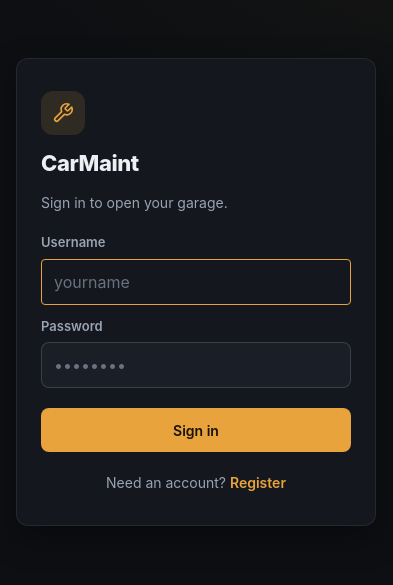
Test case: LoginView auth screen › toggles to register mode and back
The width and height of the screenshot is (393, 585).
Click the button "Register" at (258, 482), box top-left (230, 472), bottom-right (286, 493)
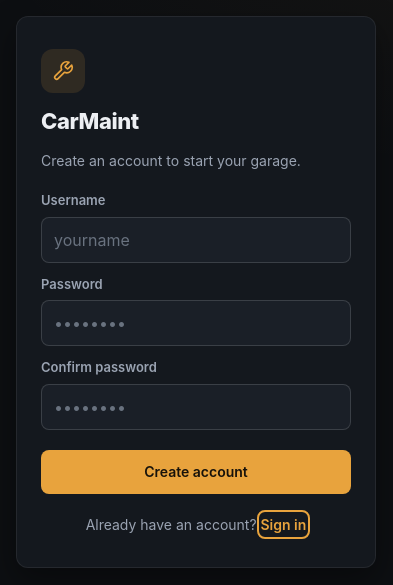
expect the button "Create account" is shown: met, box top-left (41, 450), bottom-right (351, 494)
expect the password field labelled "Confirm password" is shown: met, box top-left (41, 384), bottom-right (351, 430)
Click the button "Sign in" at (283, 524), box top-left (260, 514), bottom-right (306, 535)
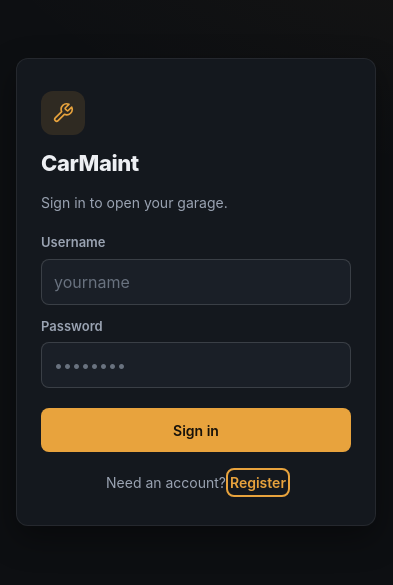
expect the text labelled "Confirm password" is gone: met
